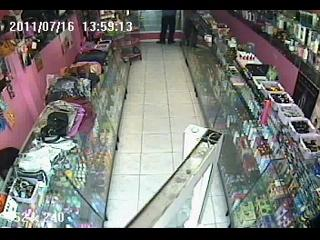Normal: (156, 10, 176, 44)
